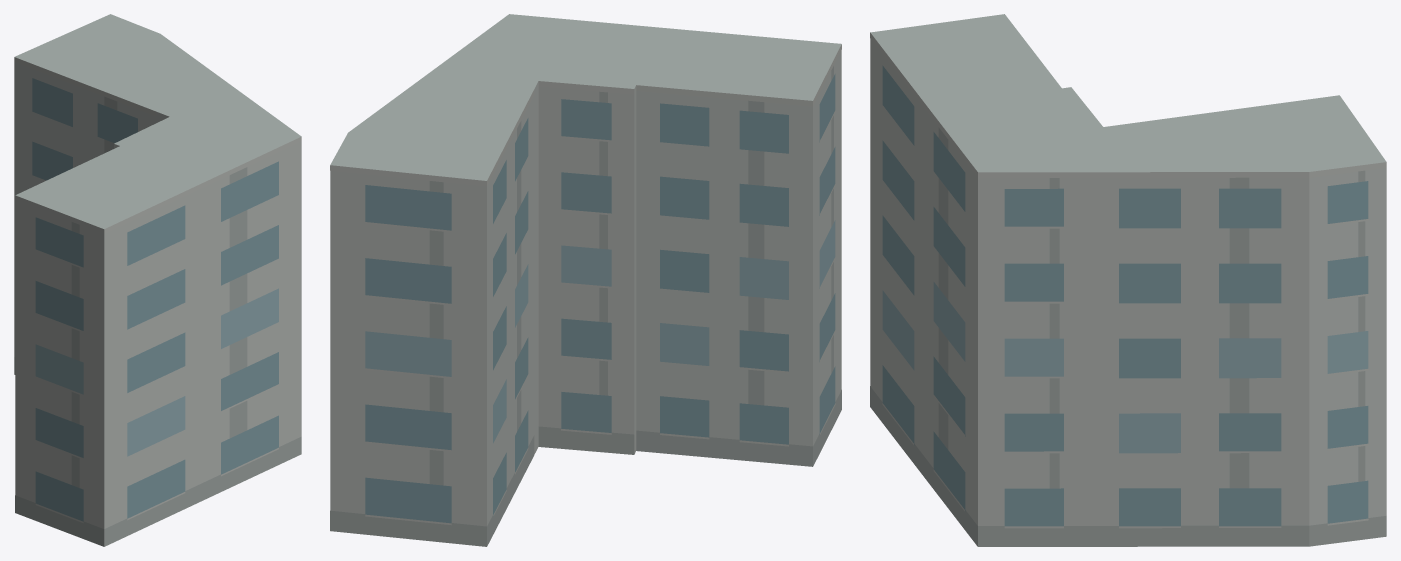
Rendered from survey-upis-33009552.glb.
The picture shows the model from 3 angles, left to right: view 1: azimuth 30°, elevation 25°; view 2: azimuth 150°, elevation 25°; view 3: azimuth 270°, elevation 25°; orthographic projection. The views are drawn at different scales.
Visible parts, largest first — view 1: survey-upis-33009552.tmp; view 2: survey-upis-33009552.tmp; view 3: survey-upis-33009552.tmp.
Part boxes in pixels (x1,y1,x2,y2): survey-upis-33009552.tmp: (14,14,301,546); survey-upis-33009552.tmp: (330,14,841,546); survey-upis-33009552.tmp: (870,14,1386,546).
Size of the model in its own units: 14.33 by 15.8 by 19.75.
